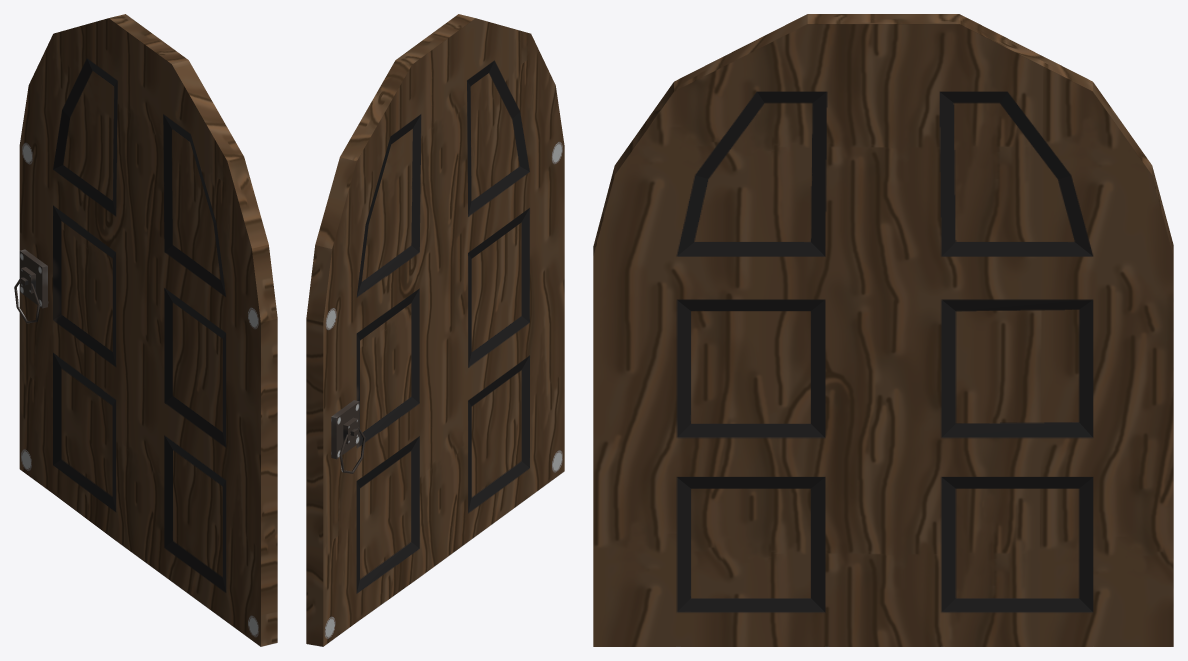
Rendered from Tavern Door.FBX.
3 renders of one model, left to right at view 1: azimuth 30°, elevation 25°; view 2: azimuth 150°, elevation 25°; view 3: azimuth 270°, elevation 25°, orthographic. The views are drawn at different scales.
Visible parts, largest first — view 1: Box058; view 2: Box058; view 3: Box058.
Boxes of the visible parts, left/top/right/bottom form: Box058: left=14, top=14, right=277, bottom=646; Box058: left=306, top=14, right=564, bottom=646; Box058: left=593, top=14, right=1173, bottom=646.
Bounding box in the file's own units: 0.2747 × 4.23 × 3.57.
